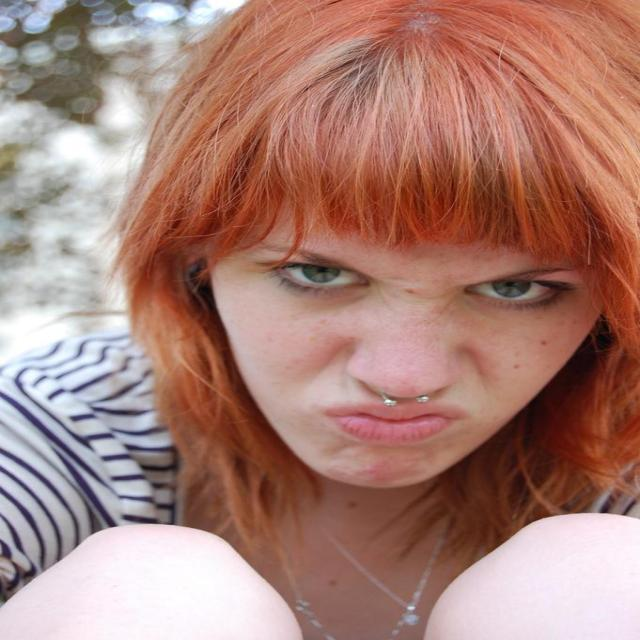no-glass: (260, 256, 574, 306)
